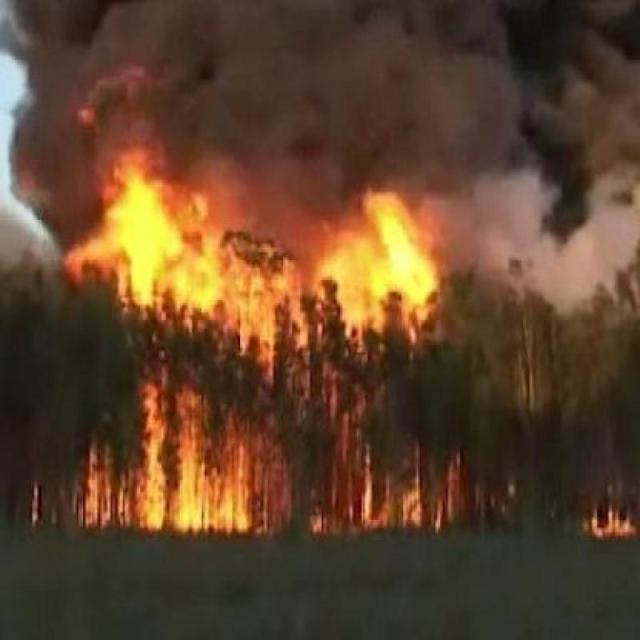Fire: (216, 223, 441, 363), (58, 154, 212, 336), (78, 390, 252, 536), (322, 435, 464, 537), (555, 450, 637, 544)
